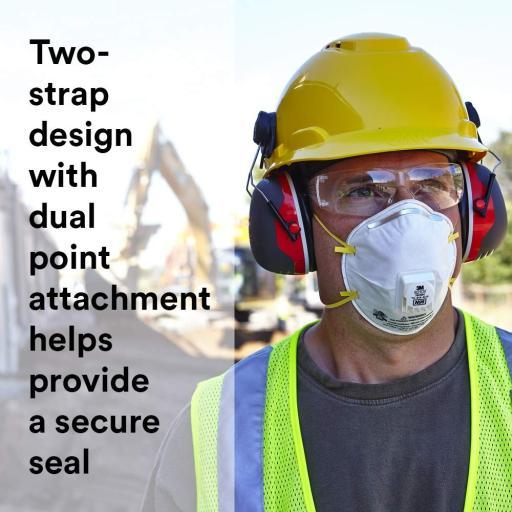mask: (341, 204, 463, 347)
